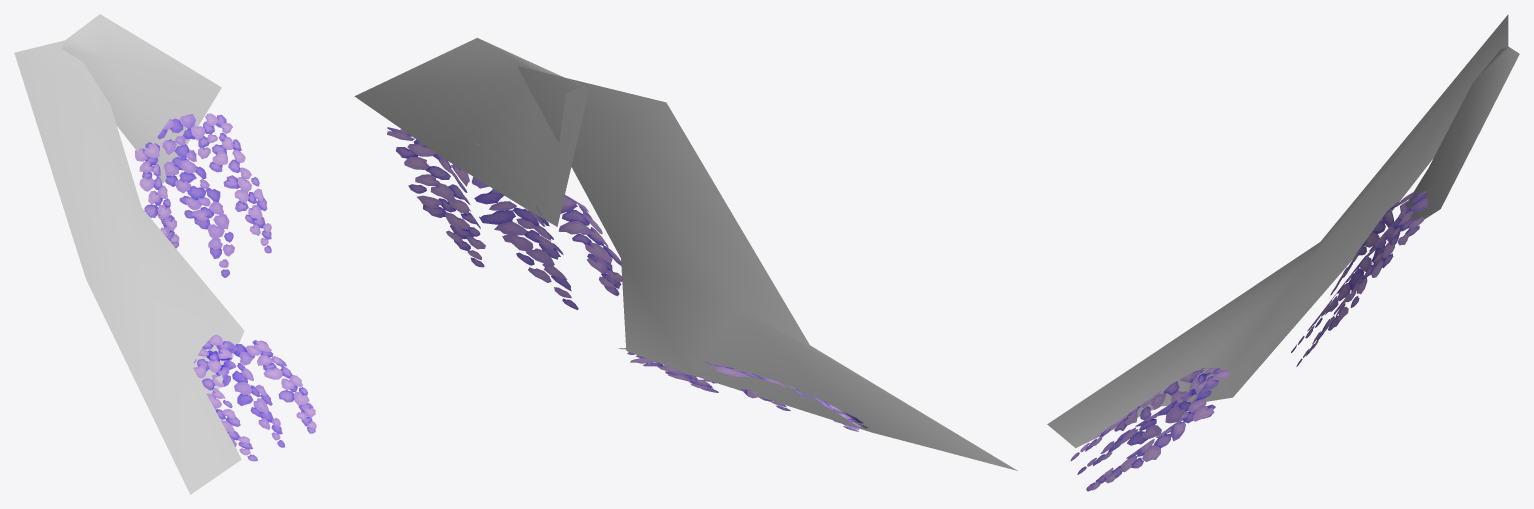
File: SM_Env_Vines_Preset_Roof_Concave_05.fbx
3 views of the same model, side by side, from view 1: azimuth 30°, elevation 25°; view 2: azimuth 150°, elevation 25°; view 3: azimuth 270°, elevation 25° (orthographic). The views are drawn at different scales.
Visible parts, largest first — view 1: SM_Env_Vines_Preset_Roof_Concave_05; view 2: SM_Env_Vines_Preset_Roof_Concave_05; view 3: SM_Env_Vines_Preset_Roof_Concave_05.
Boxes of the visible parts, <box> form: SM_Env_Vines_Preset_Roof_Concave_05: <box>14,14,316,494</box>; SM_Env_Vines_Preset_Roof_Concave_05: <box>354,38,1017,470</box>; SM_Env_Vines_Preset_Roof_Concave_05: <box>1047,14,1519,491</box>.
Size of the model in its own units: 126 by 206 by 207.
